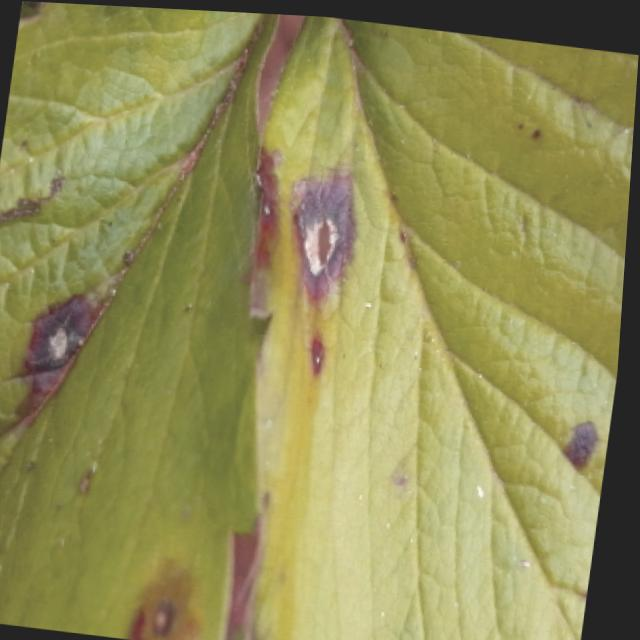Leaf Spot: (254, 13, 639, 640), (0, 2, 279, 640)
